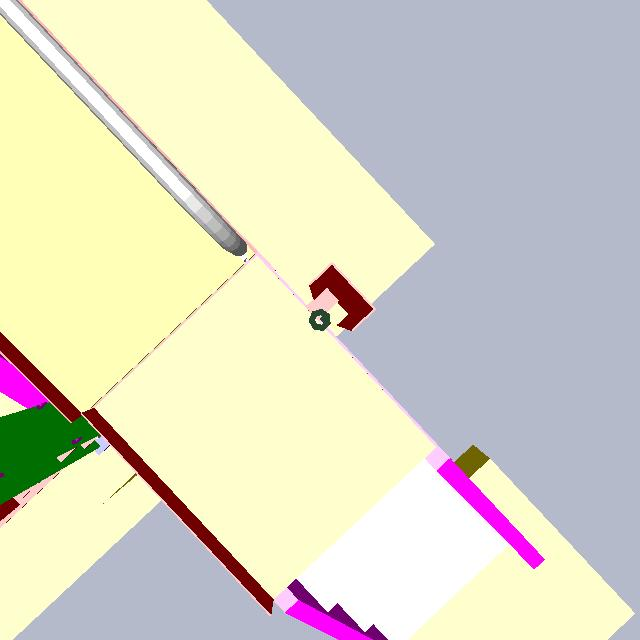Poste: (308, 306, 335, 338)
Soporte: (299, 259, 380, 345)
